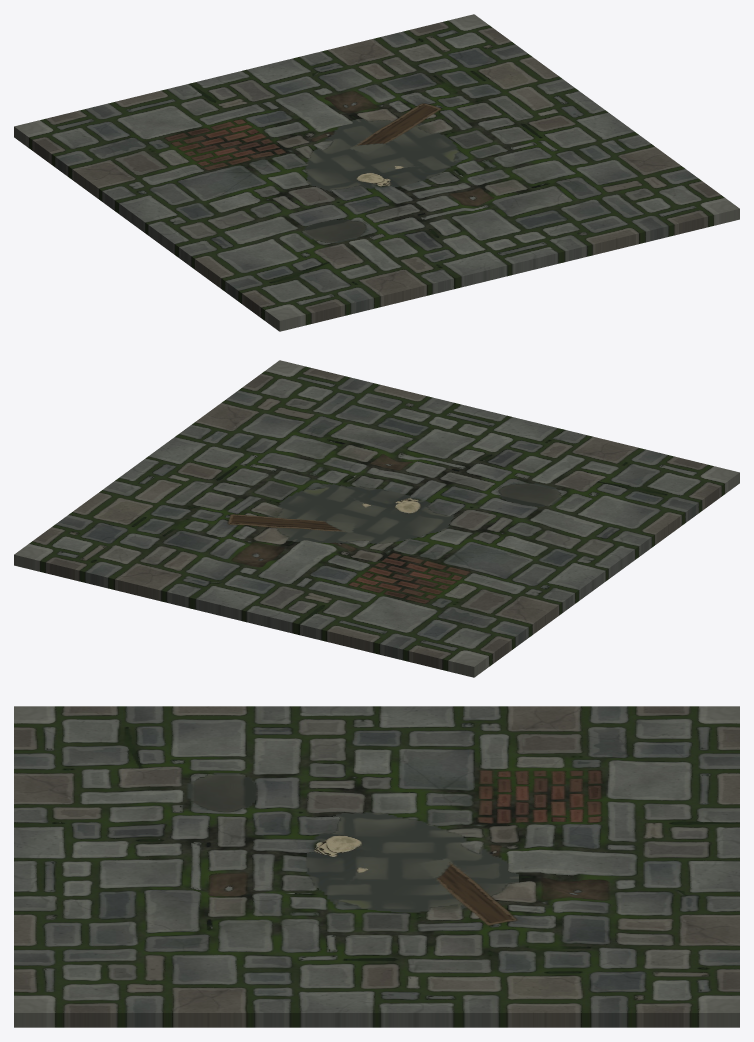
The model's file is sunken_floor_b.glb.
The picture shows the model from 3 angles, top to bottom: view 1: azimuth 30°, elevation 25°; view 2: azimuth 150°, elevation 25°; view 3: azimuth 270°, elevation 25°; orthographic projection. The views are drawn at different scales.
Visible parts, largest first — view 1: sunken_floor_b; view 2: sunken_floor_b; view 3: sunken_floor_b.
Boxes of the visible parts, x1,y1,x2,y2 form: sunken_floor_b: (14,14,739,331); sunken_floor_b: (14,360,739,677); sunken_floor_b: (14,706,739,1027).
Size of the model in its own units: 4 by 0.13 by 4.
Materials: 1 (1 with a texture image).
